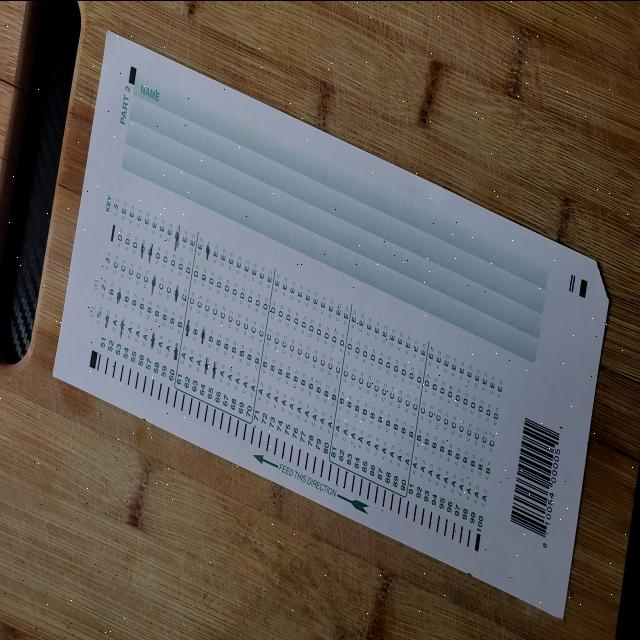scantron_back: (52, 25, 610, 619)
